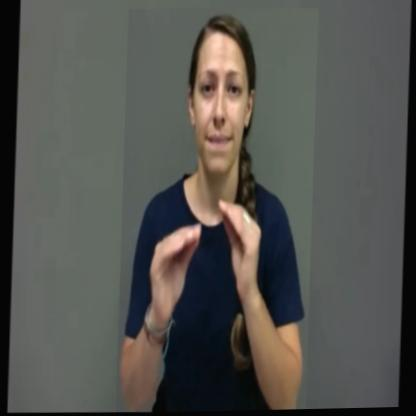Fix: (116, 5, 318, 414)
